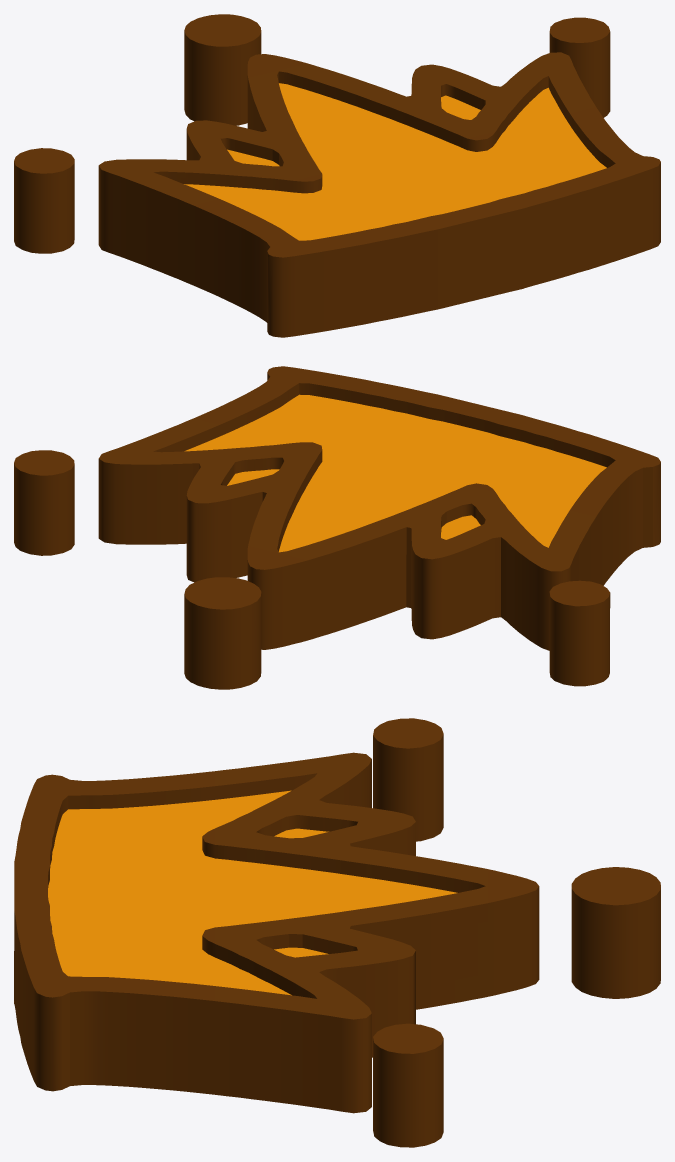
The model's file is Crown.glb.
3 renders of one model, top to bottom at view 1: azimuth 30°, elevation 25°; view 2: azimuth 150°, elevation 25°; view 3: azimuth 270°, elevation 25°, orthographic. The views are drawn at different scales.
Visible parts, largest first — view 1: Plane.003; view 2: Plane.003; view 3: Plane.003.
Boxes of the visible parts, bbox=[...] form: Plane.003: bbox=[14, 14, 660, 337]; Plane.003: bbox=[14, 366, 660, 689]; Plane.003: bbox=[14, 718, 660, 1147].
Bounding box in the file's own units: 2.76 × 0.3599 × 2.25.
1 material, 1 textured.
